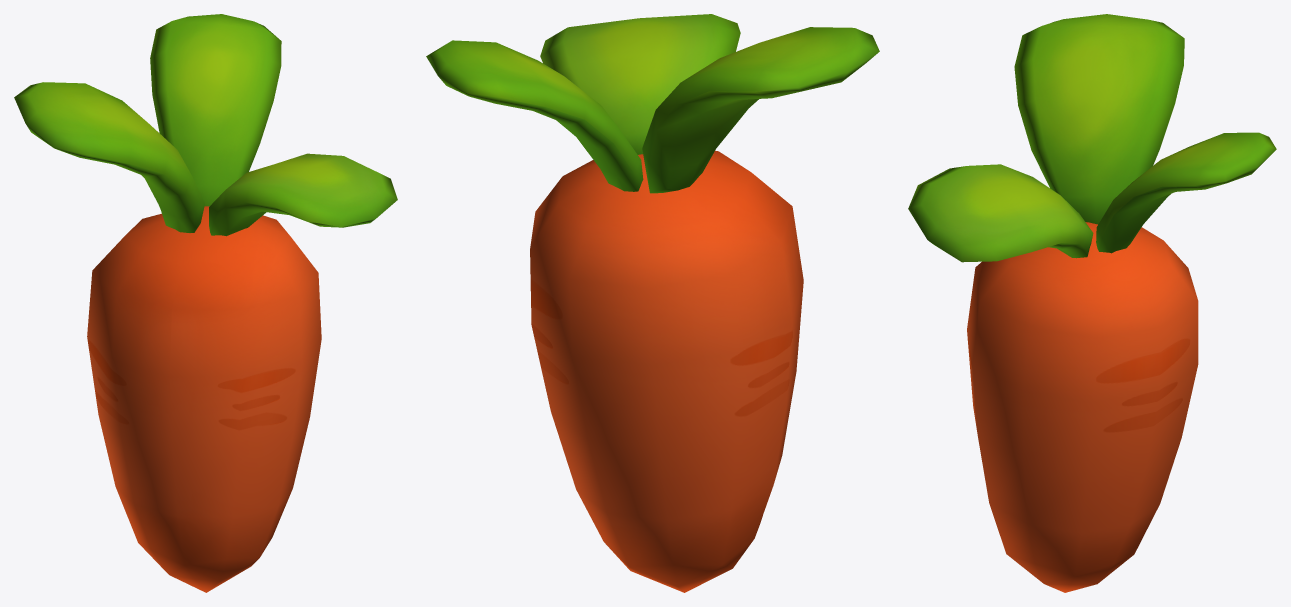
Rendered from carrot.fbx.
3 renders of one model, left to right at view 1: azimuth 30°, elevation 25°; view 2: azimuth 150°, elevation 25°; view 3: azimuth 270°, elevation 25°, orthographic. The views are drawn at different scales.
Parts seen in each view (by area): view 1: pasted__pSphere2; view 2: pasted__pSphere2; view 3: pasted__pSphere2.
Part boxes in pixels (x1,y1,x2,y2): pasted__pSphere2: (14, 14, 397, 592); pasted__pSphere2: (426, 14, 879, 592); pasted__pSphere2: (908, 14, 1276, 592).
Bounding box in the file's own units: 3.31 × 5.14 × 3.38.
Materials: 1 (1 with a texture image).
